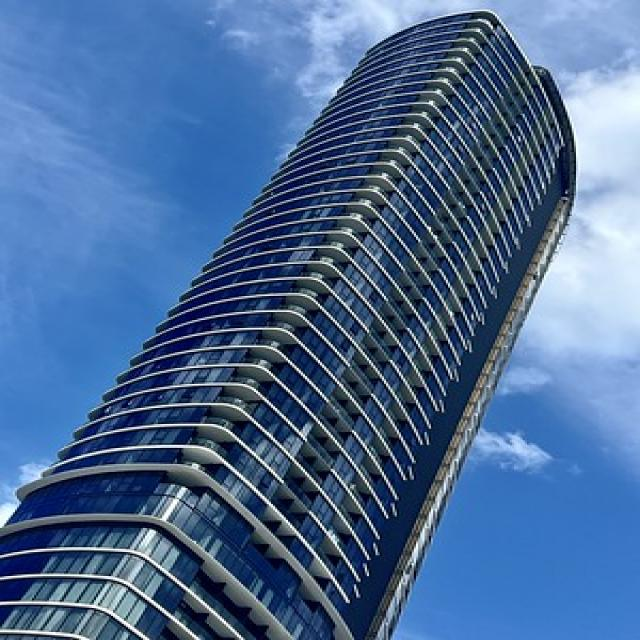Normal_building: (4, 8, 582, 638)
